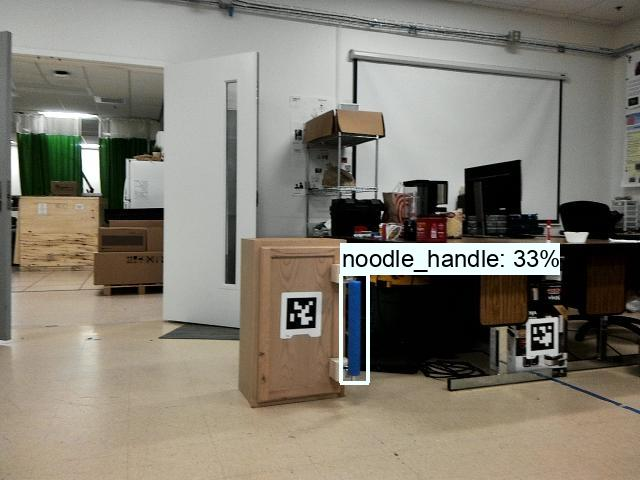noodle_handle: (341, 272, 367, 385)
